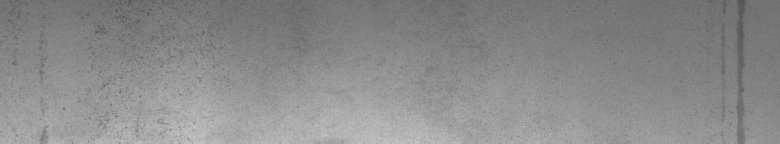ib: (4, 5, 223, 136)
